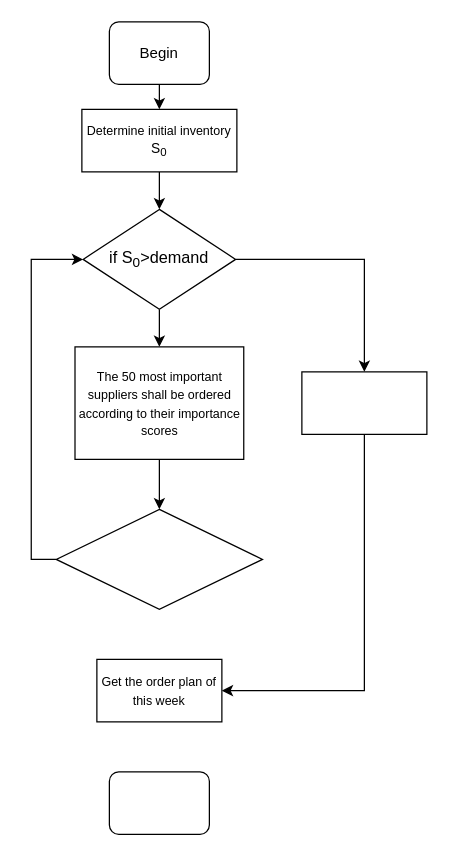
The diagram is 449 pixels wide and 856 high, and some of its shapes have lost their labels. The box of each missing label's shape, as (x1, y1, x2, y2) in pixels:
End: (108, 771, 209, 834)
No further orders this week: (301, 371, 427, 434)
S 0 =S 0 +supply quantity: (55, 508, 262, 609)
